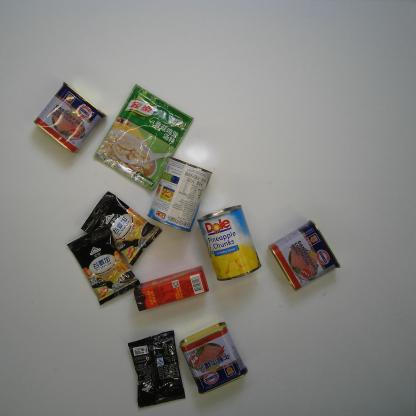Canned Food: (33, 81, 108, 154), (268, 219, 341, 292), (178, 321, 249, 395), (147, 156, 214, 233), (196, 204, 262, 282)
Drink: (133, 265, 210, 312)
Instant Drink: (80, 190, 163, 266), (67, 224, 141, 305), (127, 329, 185, 409)
Seasoner: (93, 84, 194, 190)
